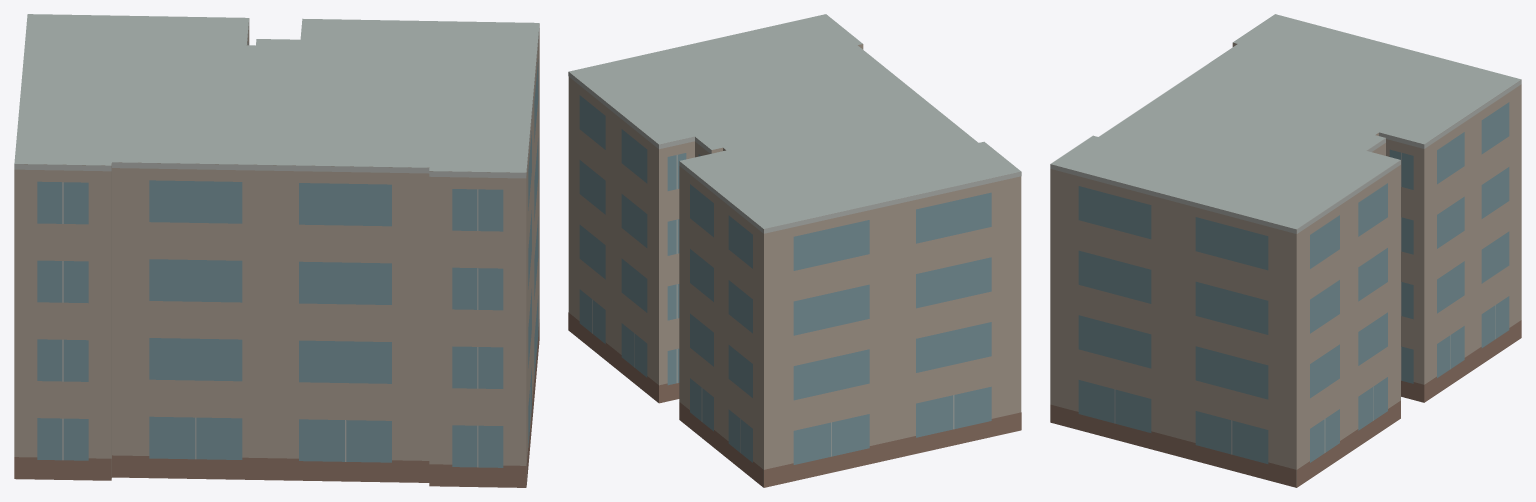
Rendered from survey-upis-32946684.glb.
3 renders of one model, left to right at view 1: azimuth 30°, elevation 25°; view 2: azimuth 150°, elevation 25°; view 3: azimuth 270°, elevation 25°, orthographic. The views are drawn at different scales.
Visible parts, largest first — view 1: survey-upis-32946684.tmp; view 2: survey-upis-32946684.tmp; view 3: survey-upis-32946684.tmp.
Boxes of the visible parts, box(x1,y1,x2,y2) form: survey-upis-32946684.tmp: box(14, 14, 539, 487); survey-upis-32946684.tmp: box(568, 14, 1021, 487); survey-upis-32946684.tmp: box(1050, 14, 1521, 487).
Size of the model in its own units: 23.97 by 13.4 by 22.16.
